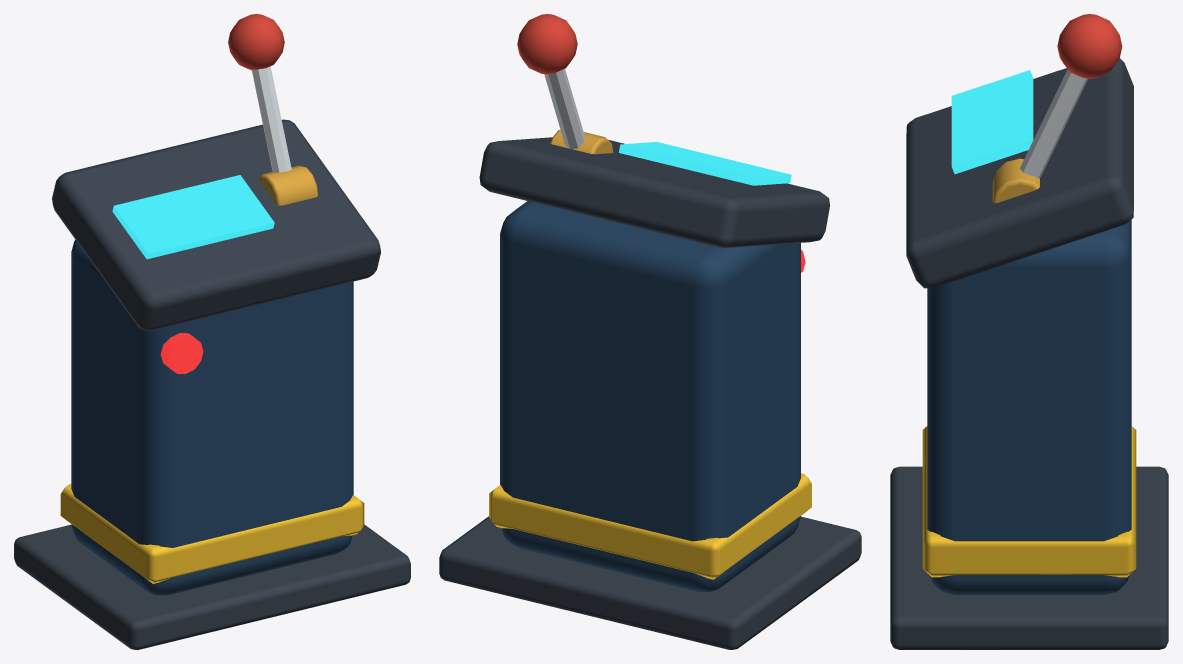
Rendered from turbine_switch.glb.
3 views of the same model, side by side, from view 1: azimuth 30°, elevation 25°; view 2: azimuth 150°, elevation 25°; view 3: azimuth 270°, elevation 25° (orthographic). The views are drawn at different scales.
Parts seen in each view (by area): view 1: turbine_switch_body, lever, status_light; view 2: turbine_switch_body, lever; view 3: turbine_switch_body, lever.
Part boxes in pixels (x1,y1,x2,y2): turbine_switch_body: (14, 119, 410, 649); lever: (228, 14, 318, 205); status_light: (160, 333, 203, 373); turbine_switch_body: (439, 137, 861, 649); lever: (517, 14, 613, 154); turbine_switch_body: (890, 58, 1168, 649); lever: (992, 14, 1122, 203).
Bounding box in the file's own units: 0.8 × 1.42 × 0.6.
